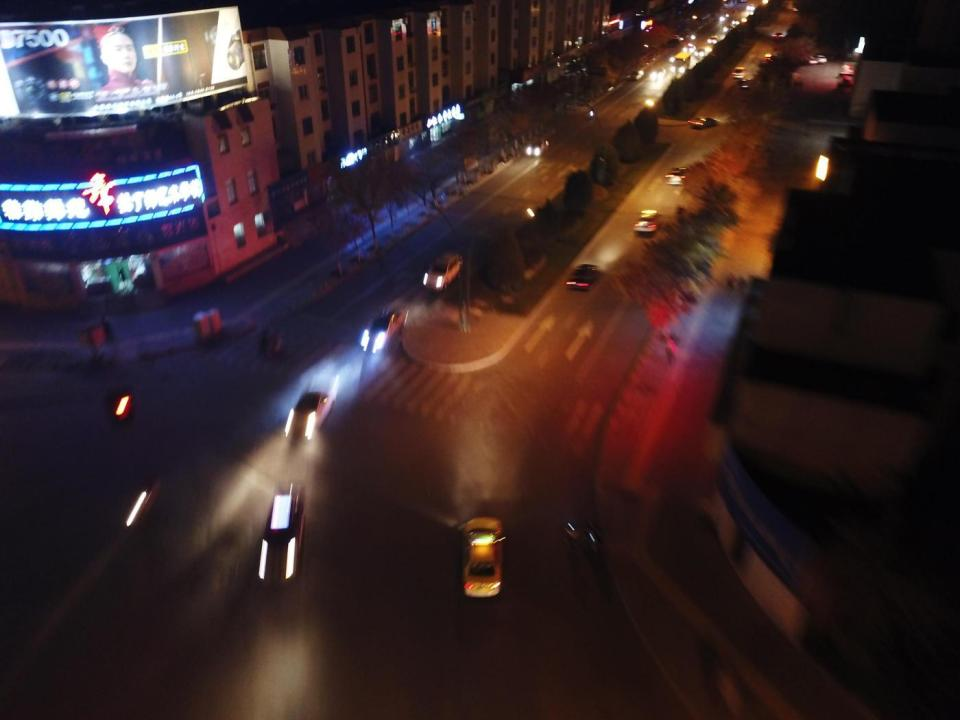bus: (583, 62, 606, 74)
car: (260, 488, 306, 581), (286, 371, 340, 439), (459, 516, 503, 599), (361, 308, 406, 351), (567, 264, 596, 288), (665, 166, 694, 186), (635, 210, 658, 232), (525, 139, 548, 156), (690, 116, 720, 128), (456, 157, 479, 169), (650, 66, 665, 79), (627, 68, 644, 79), (732, 66, 745, 79), (762, 54, 777, 65), (803, 55, 816, 66), (814, 54, 828, 63), (741, 80, 754, 88), (683, 44, 695, 52), (668, 34, 682, 40), (746, 3, 755, 12), (773, 32, 786, 38), (724, 26, 734, 33), (695, 49, 705, 56), (708, 36, 718, 43), (792, 4, 802, 11), (743, 10, 753, 16), (732, 18, 740, 25)
van: (424, 254, 464, 288)
